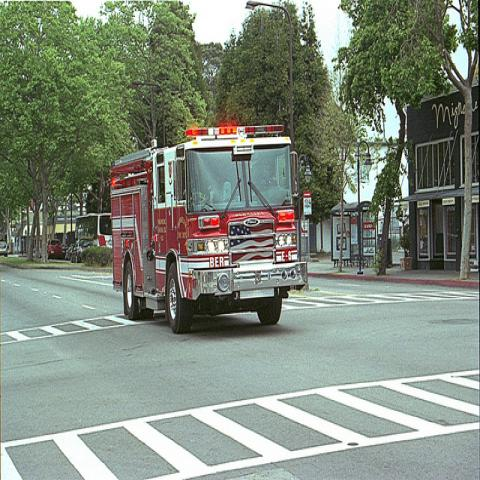bus: (74, 212, 112, 250)
car: (70, 238, 95, 262), (46, 238, 63, 258), (0, 241, 8, 258)
truck: (110, 124, 306, 332)
